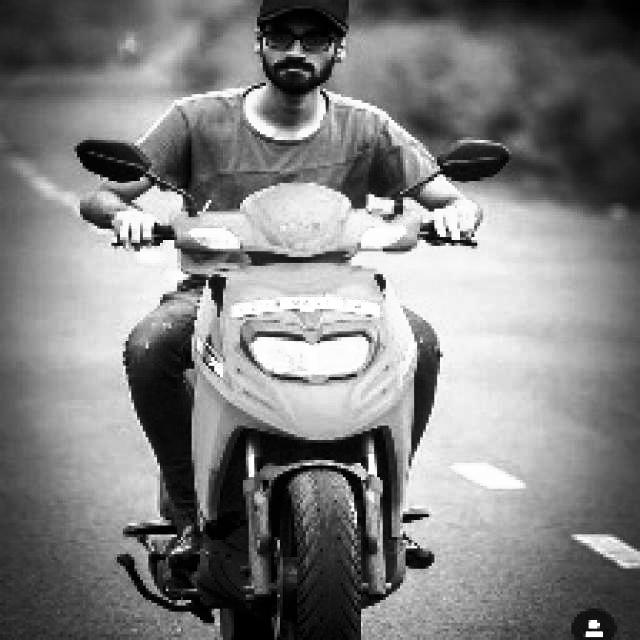Bike: (192, 189, 420, 627)
